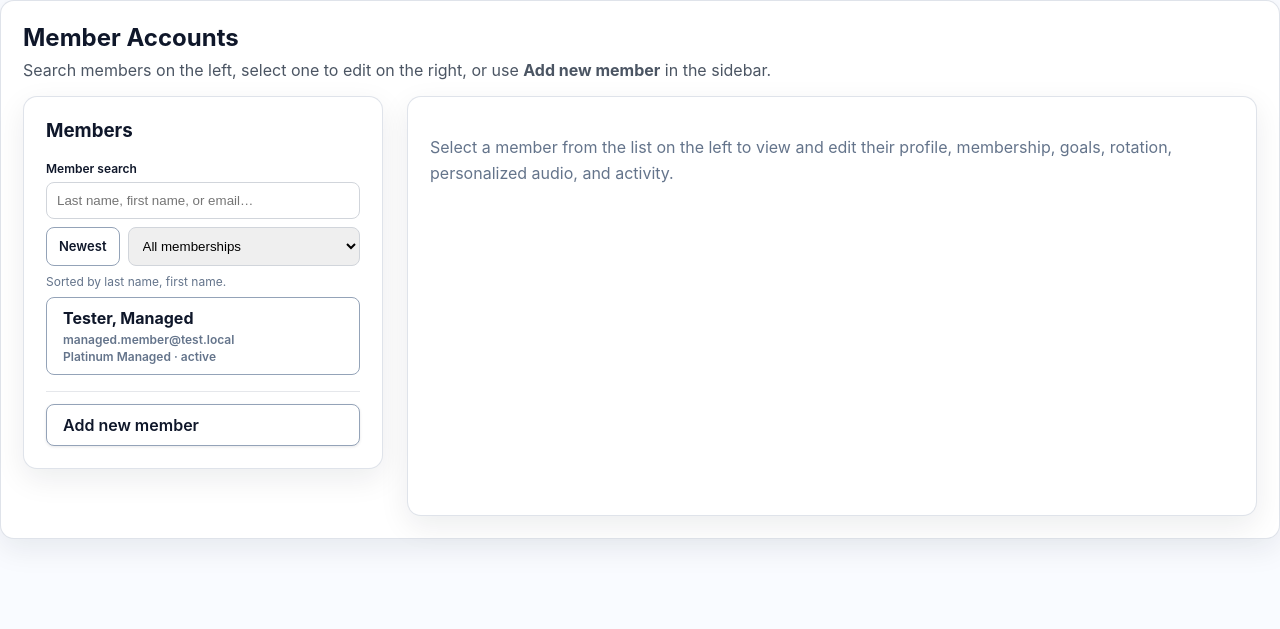
AdminUsers Platinum Managed rotation › adds at end twice for same recording (reorder manually)
The image size is (1280, 629).
Click the button "Tester, Managed" at (203, 336), box [46,297,360,375]
(page scrolled)
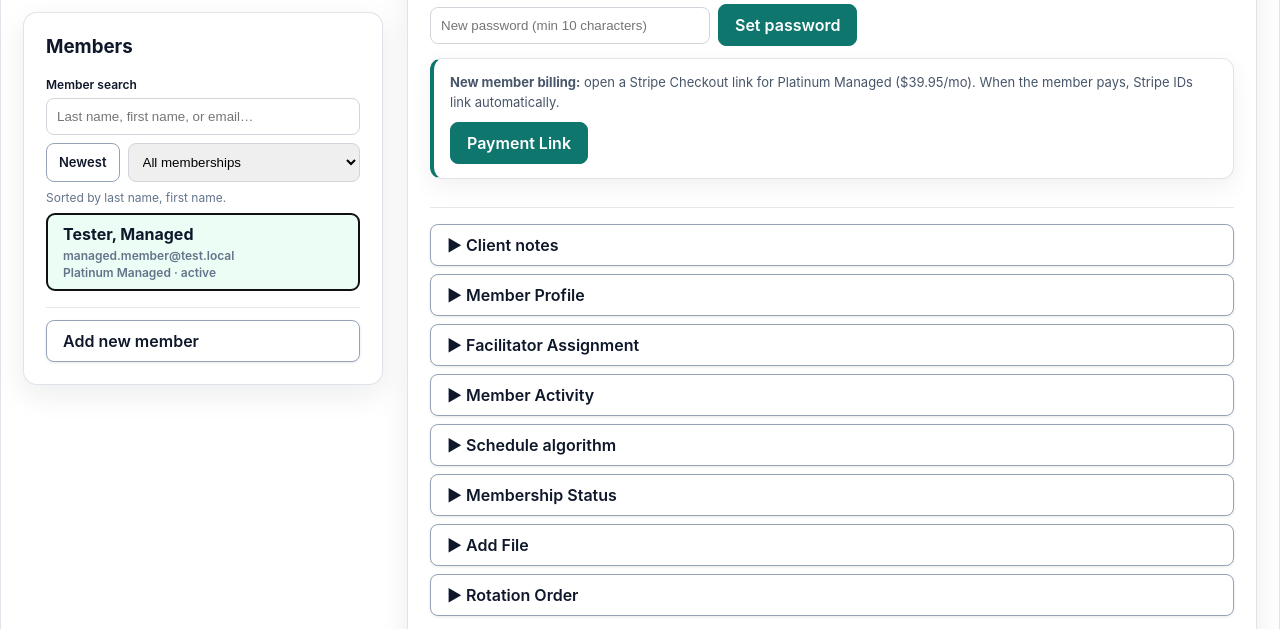
expect the button "▶ Rotation Order" is shown: met
Click the button "▶ Rotation Order" at (520, 595), box [430,574,1234,616]
(page scrolled)
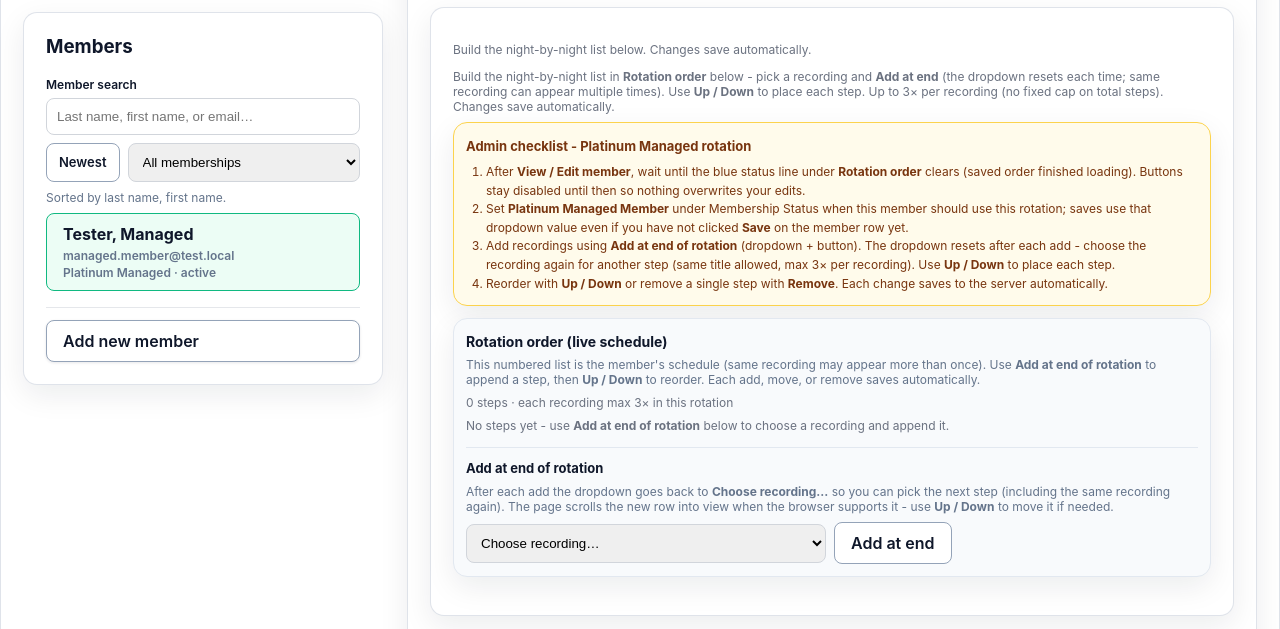
expect the text "Rotation order (live schedule)" is shown: met, box [466,333,667,350]
Select "SKU-A - Alpha Track" in the dropdown named "choose audio to add at end of rotation" at (646, 543), box [466,524,826,563]
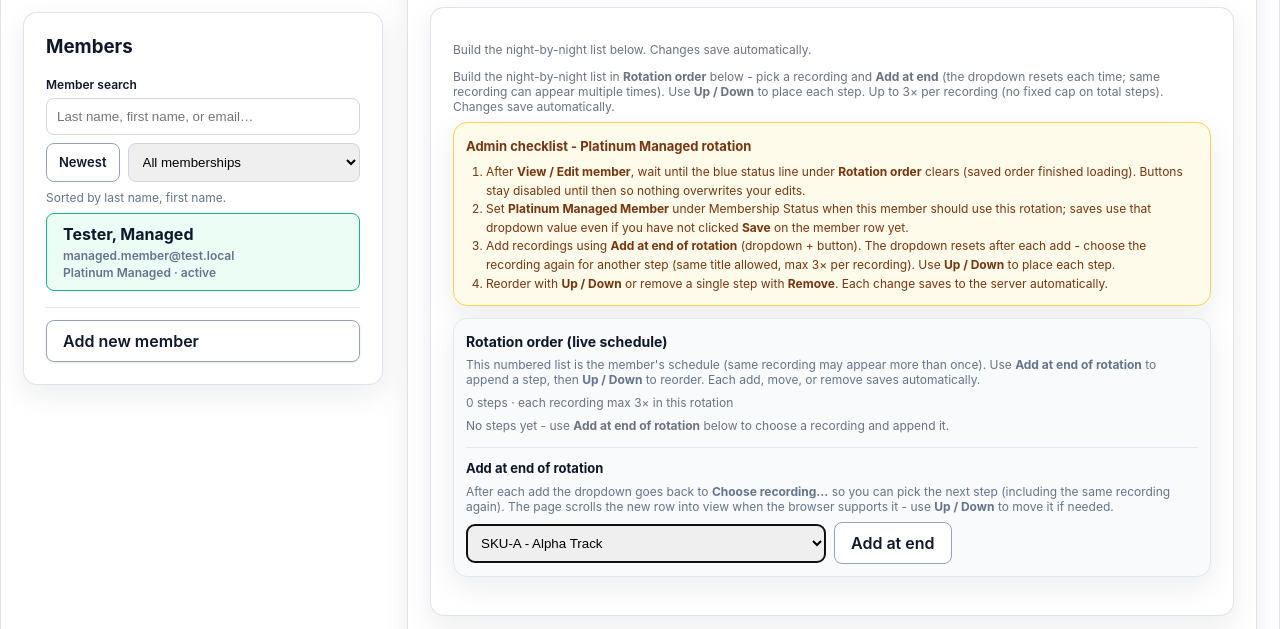
Click the button "Add at end" at (893, 543), box [834,522,952,564]
(page scrolled)
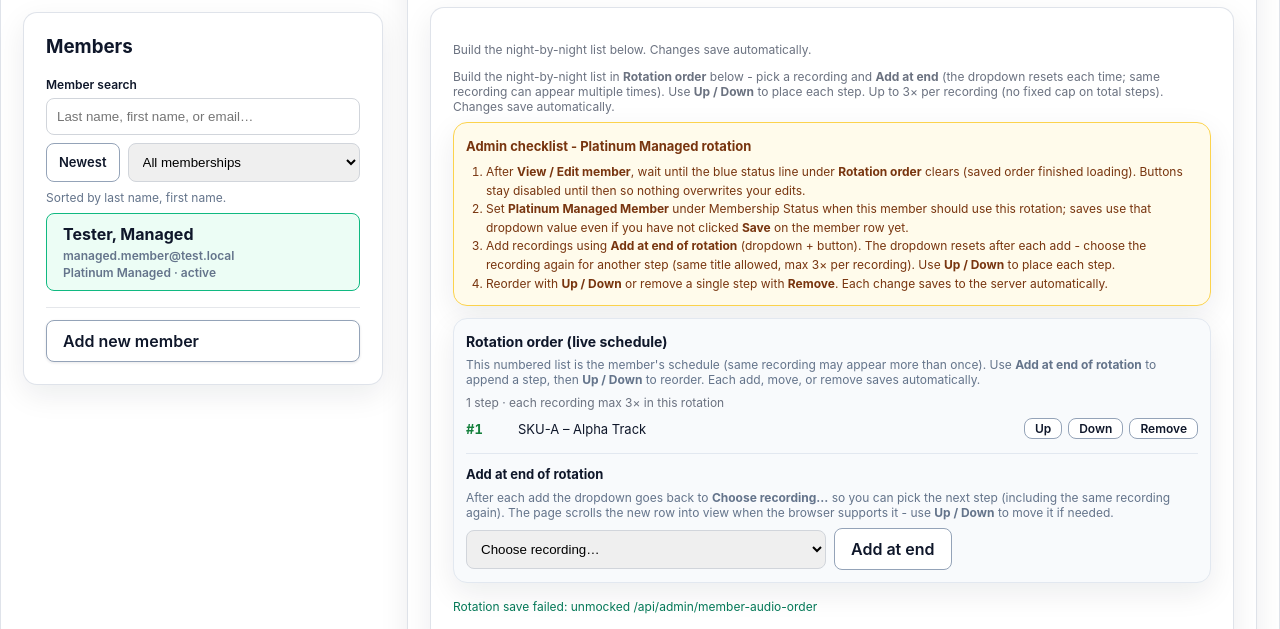
Select "SKU-A - Alpha Track" in the dropdown named "choose audio to add at end of rotation" at (646, 549), box [466,530,826,569]
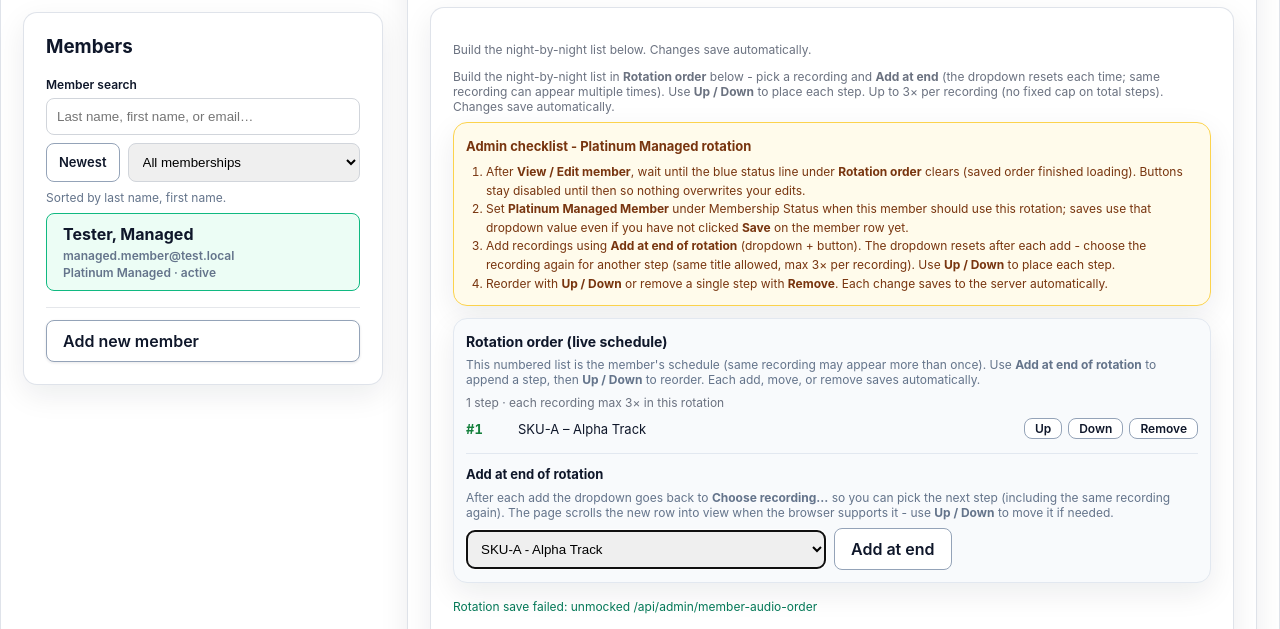
Click the button "Add at end" at (893, 549), box [834,528,952,570]
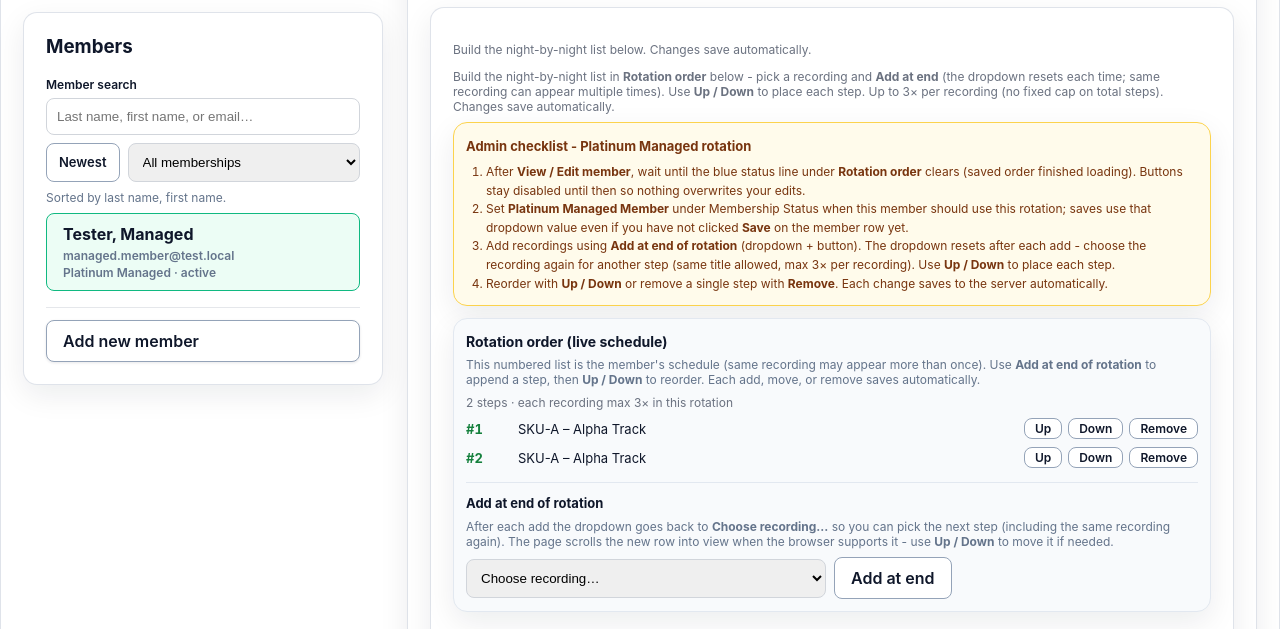
expect the text "Rotation order (live schedule)" is shown: met, box [466,333,667,350]
expect the list item "#1 SKU-A – Alpha Track Up Down Remove" is shown: met, box [466,418,1198,439]
expect the list item "#2 SKU-A – Alpha Track Up Down Remove" is shown: met, box [466,447,1198,468]
